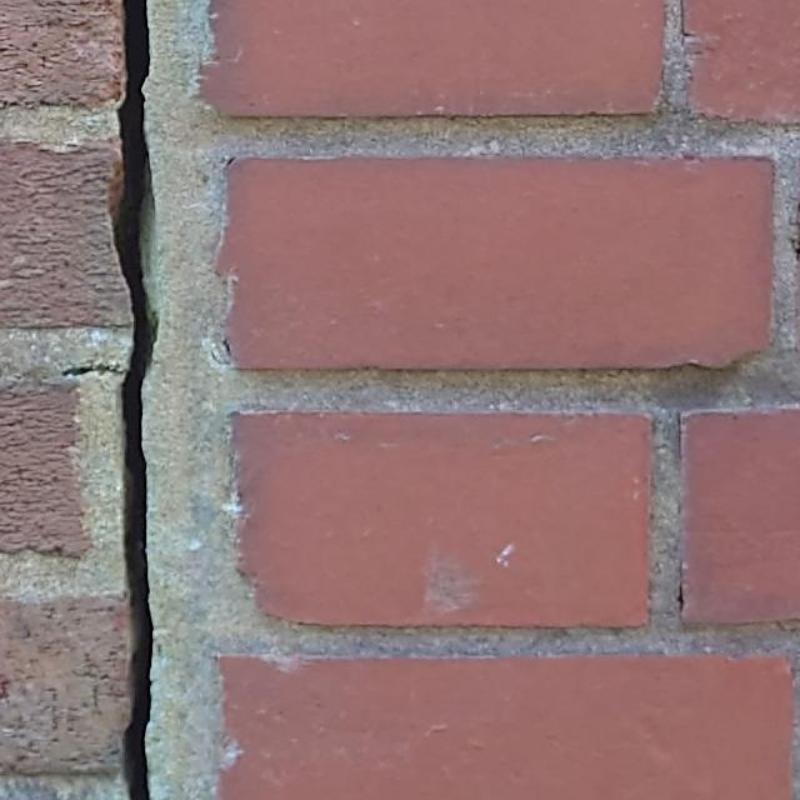crack: (61, 0, 158, 799)
